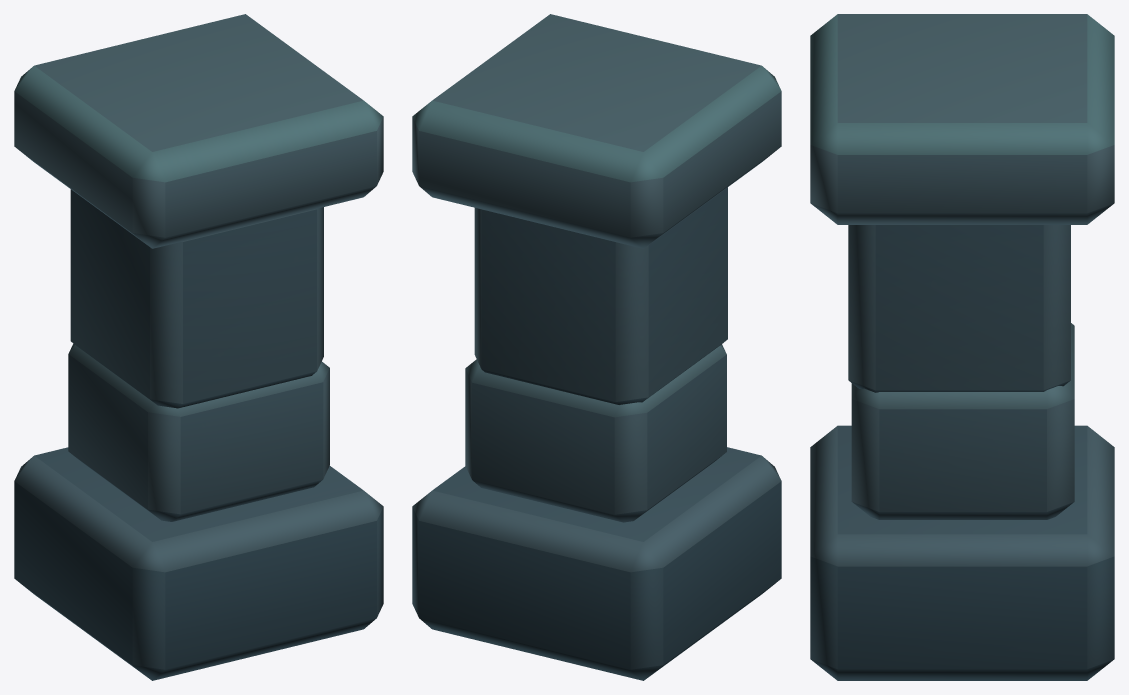
The model's file is fence_pillar_1.fbx.
3 renders of one model, left to right at view 1: azimuth 30°, elevation 25°; view 2: azimuth 150°, elevation 25°; view 3: azimuth 270°, elevation 25°, orthographic. The views are drawn at different scales.
Parts seen in each view (by area): view 1: fence_pillar_1; view 2: fence_pillar_1; view 3: fence_pillar_1.
Part boxes in pixels (<box>): fence_pillar_1: <box>14,14,383,680</box>; fence_pillar_1: <box>412,14,781,680</box>; fence_pillar_1: <box>810,14,1114,680</box>.
Size of the model in its own units: 76.02 by 153 by 75.69.
